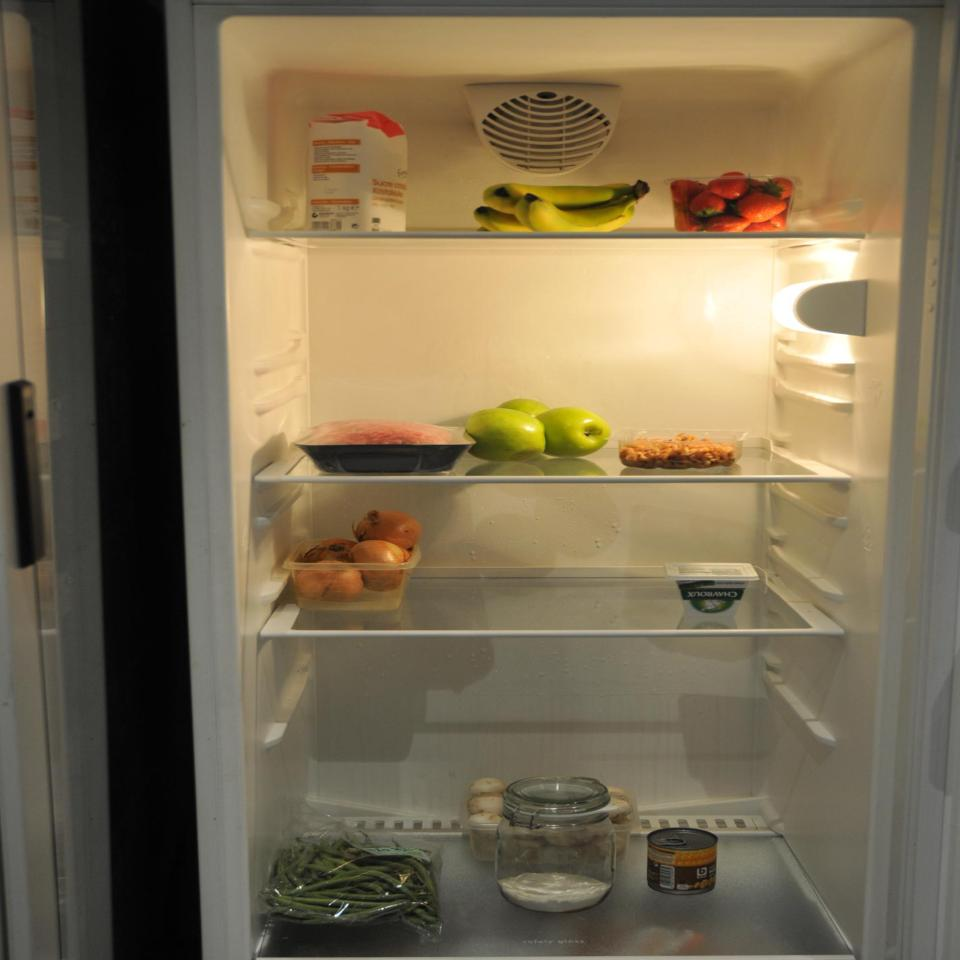Manzana: (459, 385, 614, 465)
Plátano: (466, 179, 656, 231)
